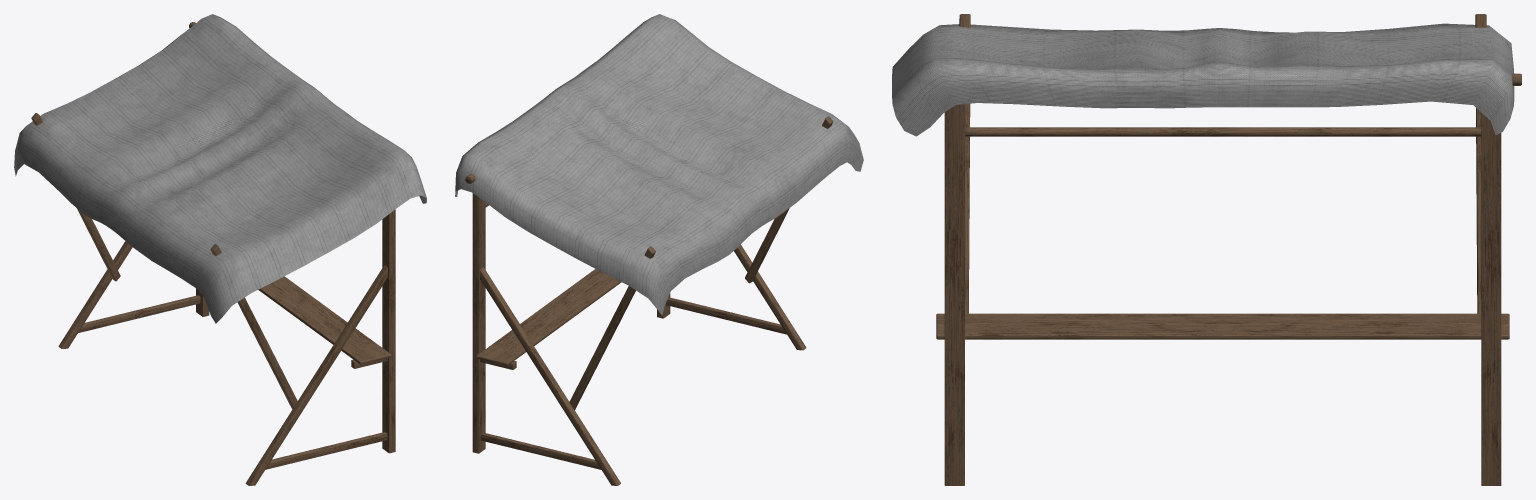
Rendered from SM_market_02.fbx.
The picture shows the model from 3 angles, left to right: view 1: azimuth 30°, elevation 25°; view 2: azimuth 150°, elevation 25°; view 3: azimuth 270°, elevation 25°; orthographic projection. The views are drawn at different scales.
Visible parts, largest first — view 1: SM_market_02; view 2: SM_market_02; view 3: SM_market_02.
Boxes of the visible parts, x1,y1,x2,y2 form: SM_market_02: (14, 14, 426, 485); SM_market_02: (455, 14, 863, 485); SM_market_02: (892, 14, 1521, 485).
Size of the model in its own units: 180 by 330 by 249.
Materials: 2 (2 with a texture image).
